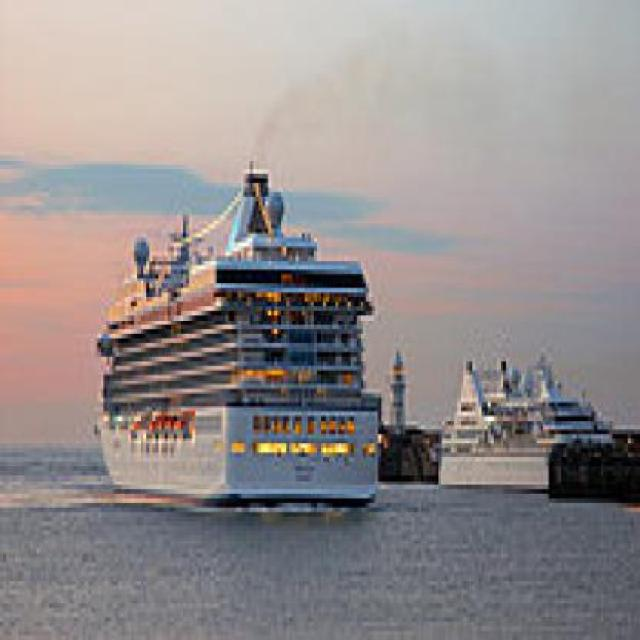cruise: (89, 157, 391, 514), (427, 349, 623, 504)
